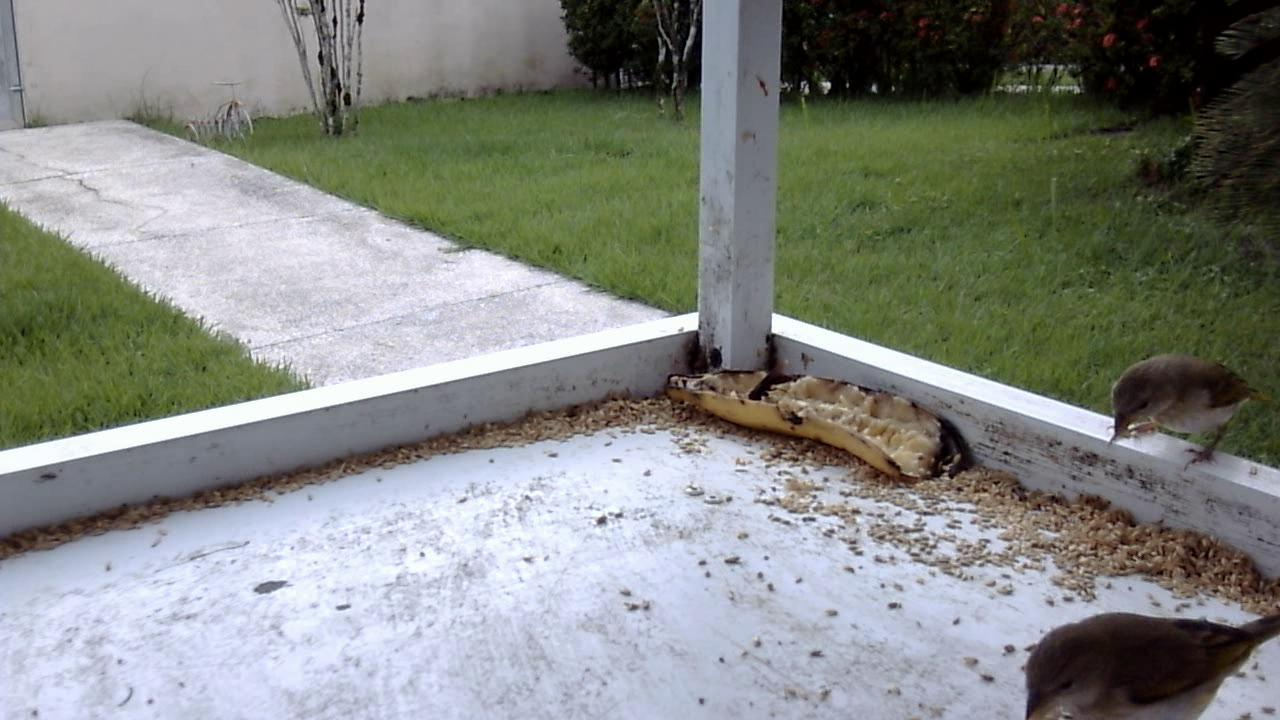canario_do_amazonas: (1015, 595, 1273, 715), (1095, 346, 1268, 477)
